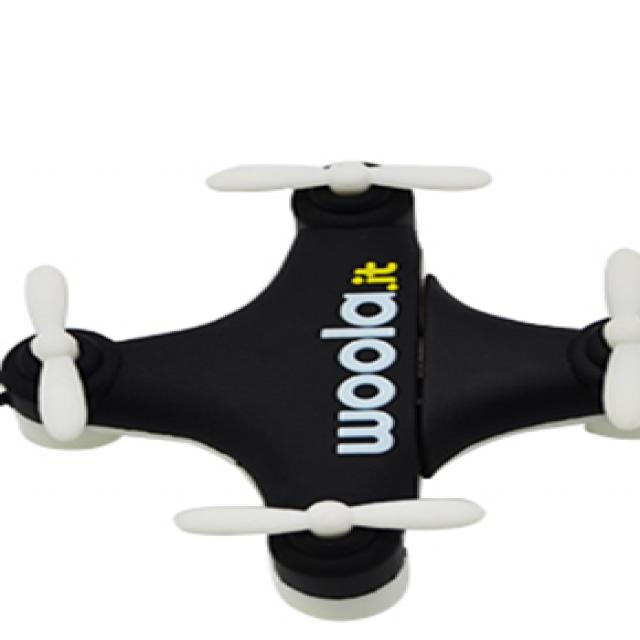drone: (0, 101, 640, 615)
